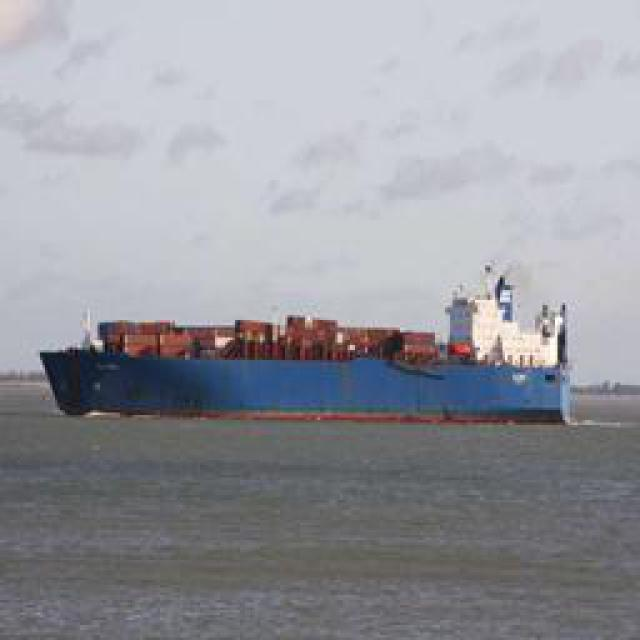Ship: (49, 296, 592, 411)
